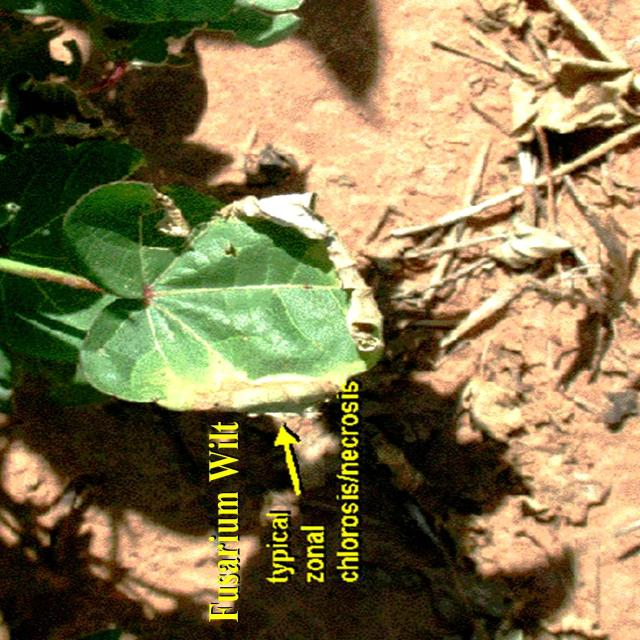Fusarium Wilt: (79, 161, 414, 446)
